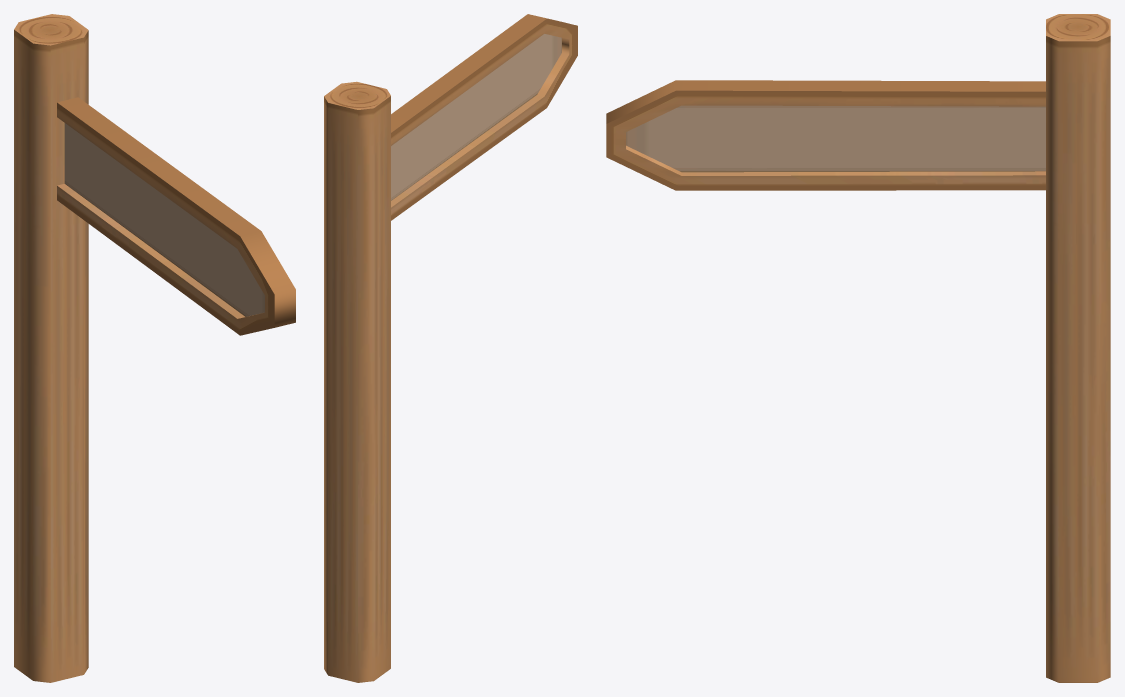
File: Palm Wood Lamp Sign Hand.fbx
3 renders of one model, left to right at view 1: azimuth 30°, elevation 25°; view 2: azimuth 150°, elevation 25°; view 3: azimuth 270°, elevation 25°, orthographic. The views are drawn at different scales.
Visible parts, largest first — view 1: FencePost (1); view 2: FencePost (1); view 3: FencePost (1).
Boxes of the visible parts, x1,y1,x2,y2 form: FencePost (1): [14, 14, 295, 682]; FencePost (1): [324, 14, 577, 682]; FencePost (1): [606, 14, 1110, 682].
Bounding box in the file's own units: 0.1669 × 1.83 × 1.3.
Materials: 1 (1 with a texture image).
